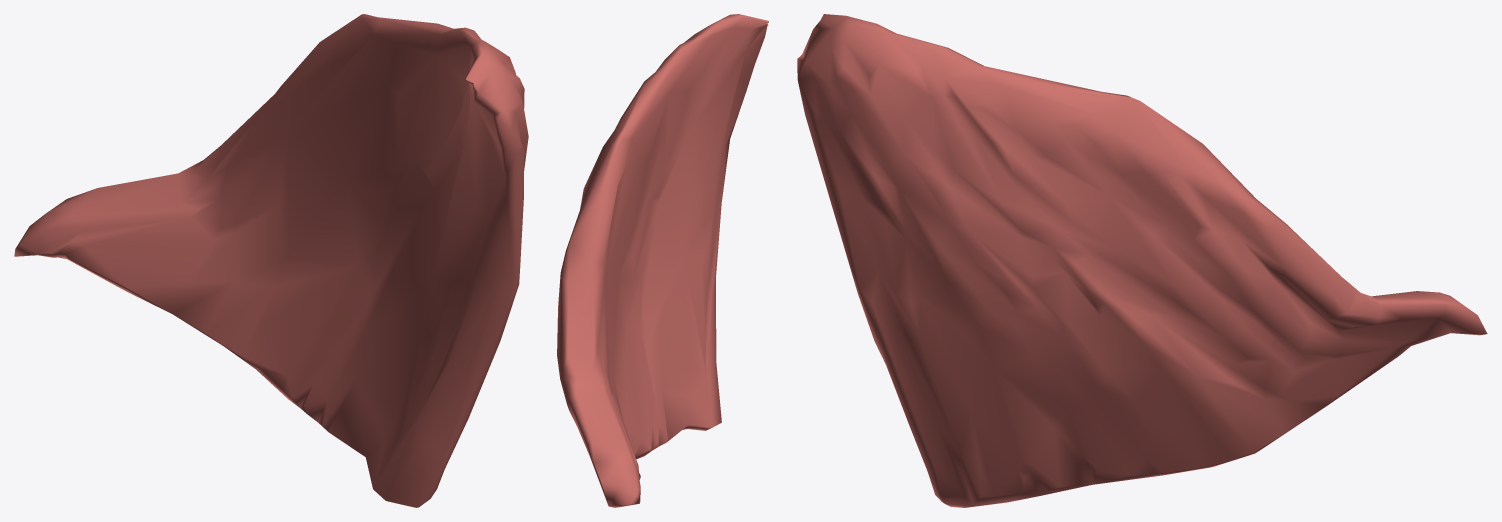
The picture shows the model from 3 angles, left to right: view 1: azimuth 30°, elevation 25°; view 2: azimuth 150°, elevation 25°; view 3: azimuth 270°, elevation 25°; orthographic projection. The views are drawn at different scales.
Visible parts, largest first — view 1: 左侧颊肌; view 2: 左侧颊肌; view 3: 左侧颊肌.
Boxes of the visible parts, x1,y1,x2,y2 form: 左侧颊肌: (14, 14, 528, 507); 左侧颊肌: (557, 14, 768, 507); 左侧颊肌: (797, 14, 1487, 507).
Size of the model in its own units: 0.0221 by 0.0426 by 0.0535.
